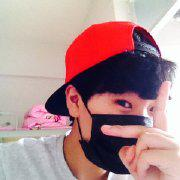OK: (81, 77, 171, 167)
